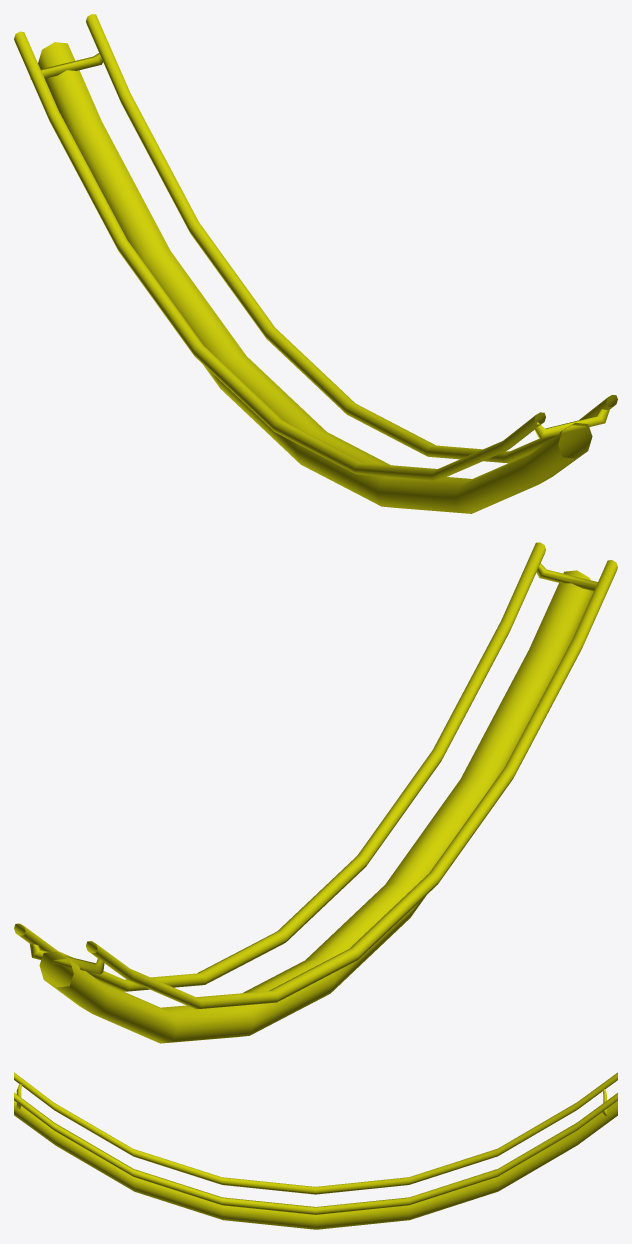
The picture shows the model from 3 angles, top to bottom: view 1: azimuth 30°, elevation 25°; view 2: azimuth 150°, elevation 25°; view 3: azimuth 270°, elevation 25°; orthographic projection. The views are drawn at different scales.
Parts seen in each view (by area): view 1: Mesh; view 2: Mesh; view 3: Mesh.
Part boxes in pixels (box(x1,y1,x2,y2)): Mesh: box(14, 14, 617, 513); Mesh: box(14, 542, 617, 1043); Mesh: box(14, 1072, 617, 1229).
Bounding box in the file's own units: 67.17 × 191 × 712.
